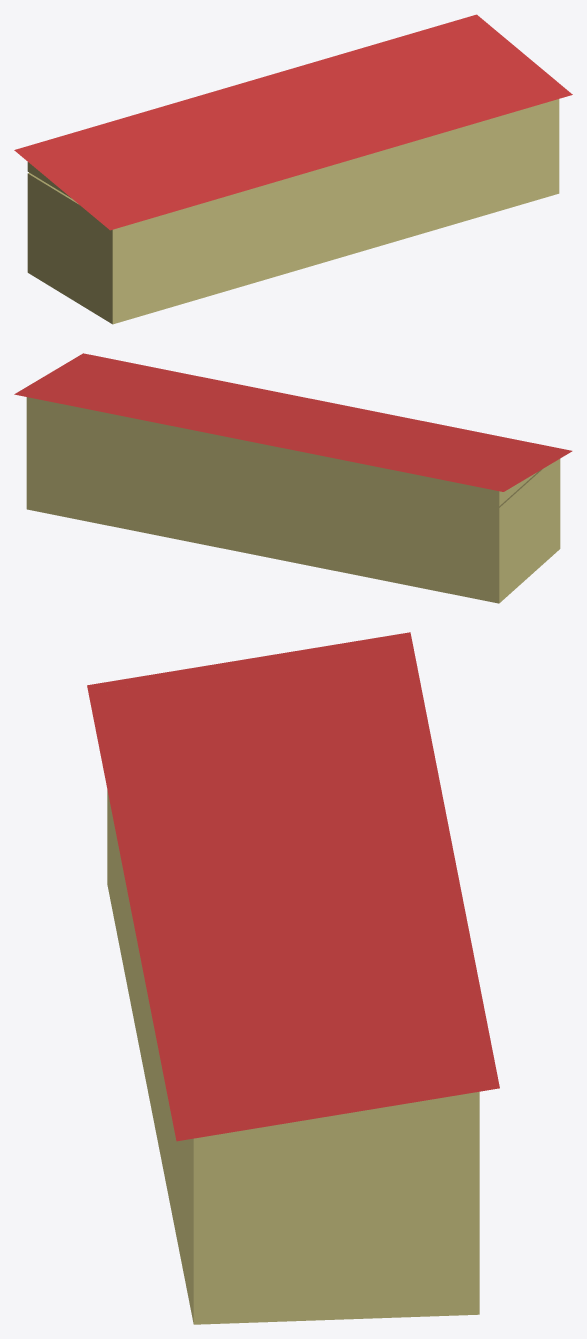
The picture shows the model from 3 angles, top to bottom: view 1: azimuth 30°, elevation 25°; view 2: azimuth 150°, elevation 25°; view 3: azimuth 270°, elevation 25°; orthographic projection. The views are drawn at different scales.
Size of the model in its own units: 29.25 by 10.92 by 6.82.
